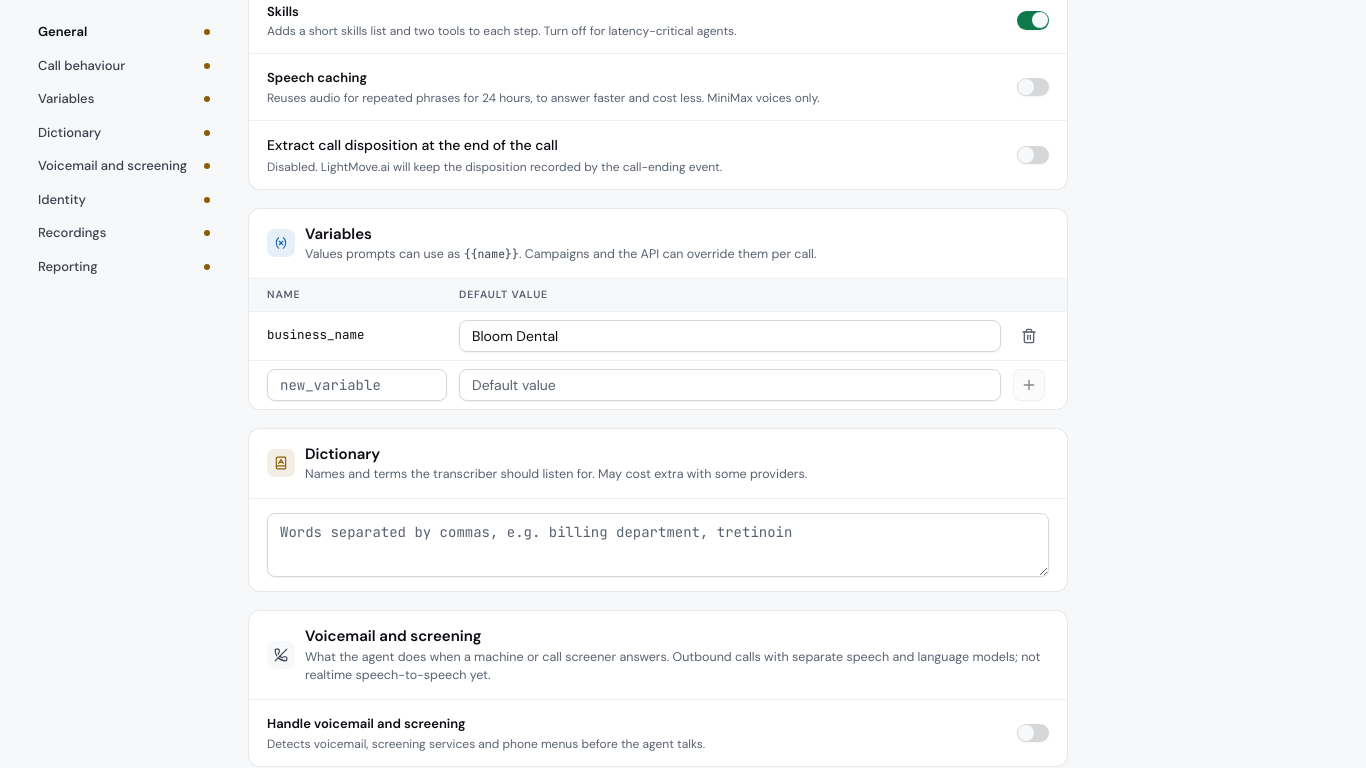
Test: Advanced settings › won't drop a new variable value that has no name
The width and height of the screenshot is (1366, 768).
(page scrolled)
Step 1. Type "Free parking" into the field named "New variable value" → x=730, y=385, box [459,369,1001,401]
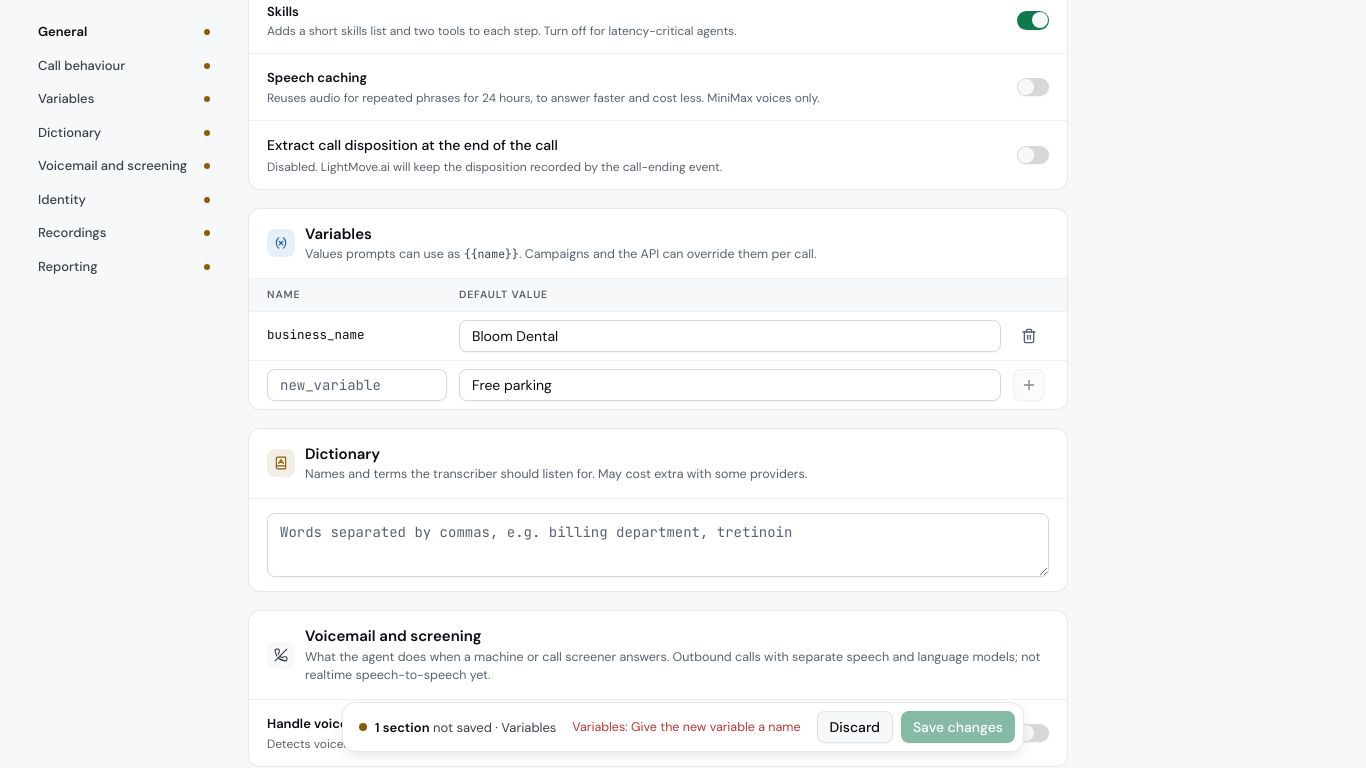
Check: the text "Variables: Give the new variable a name" is shown, box [572,718,800,736]
Check: the button "Save changes" is disabled, box [901,711,1015,743]
